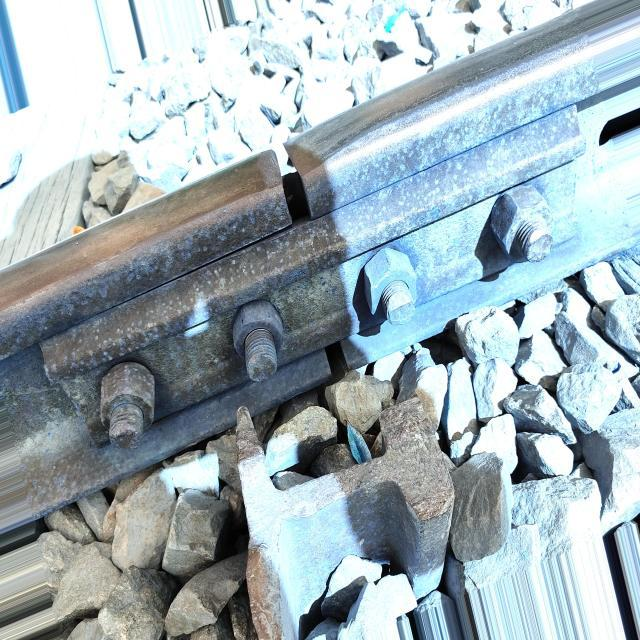Good Joint: (38, 103, 588, 455)
